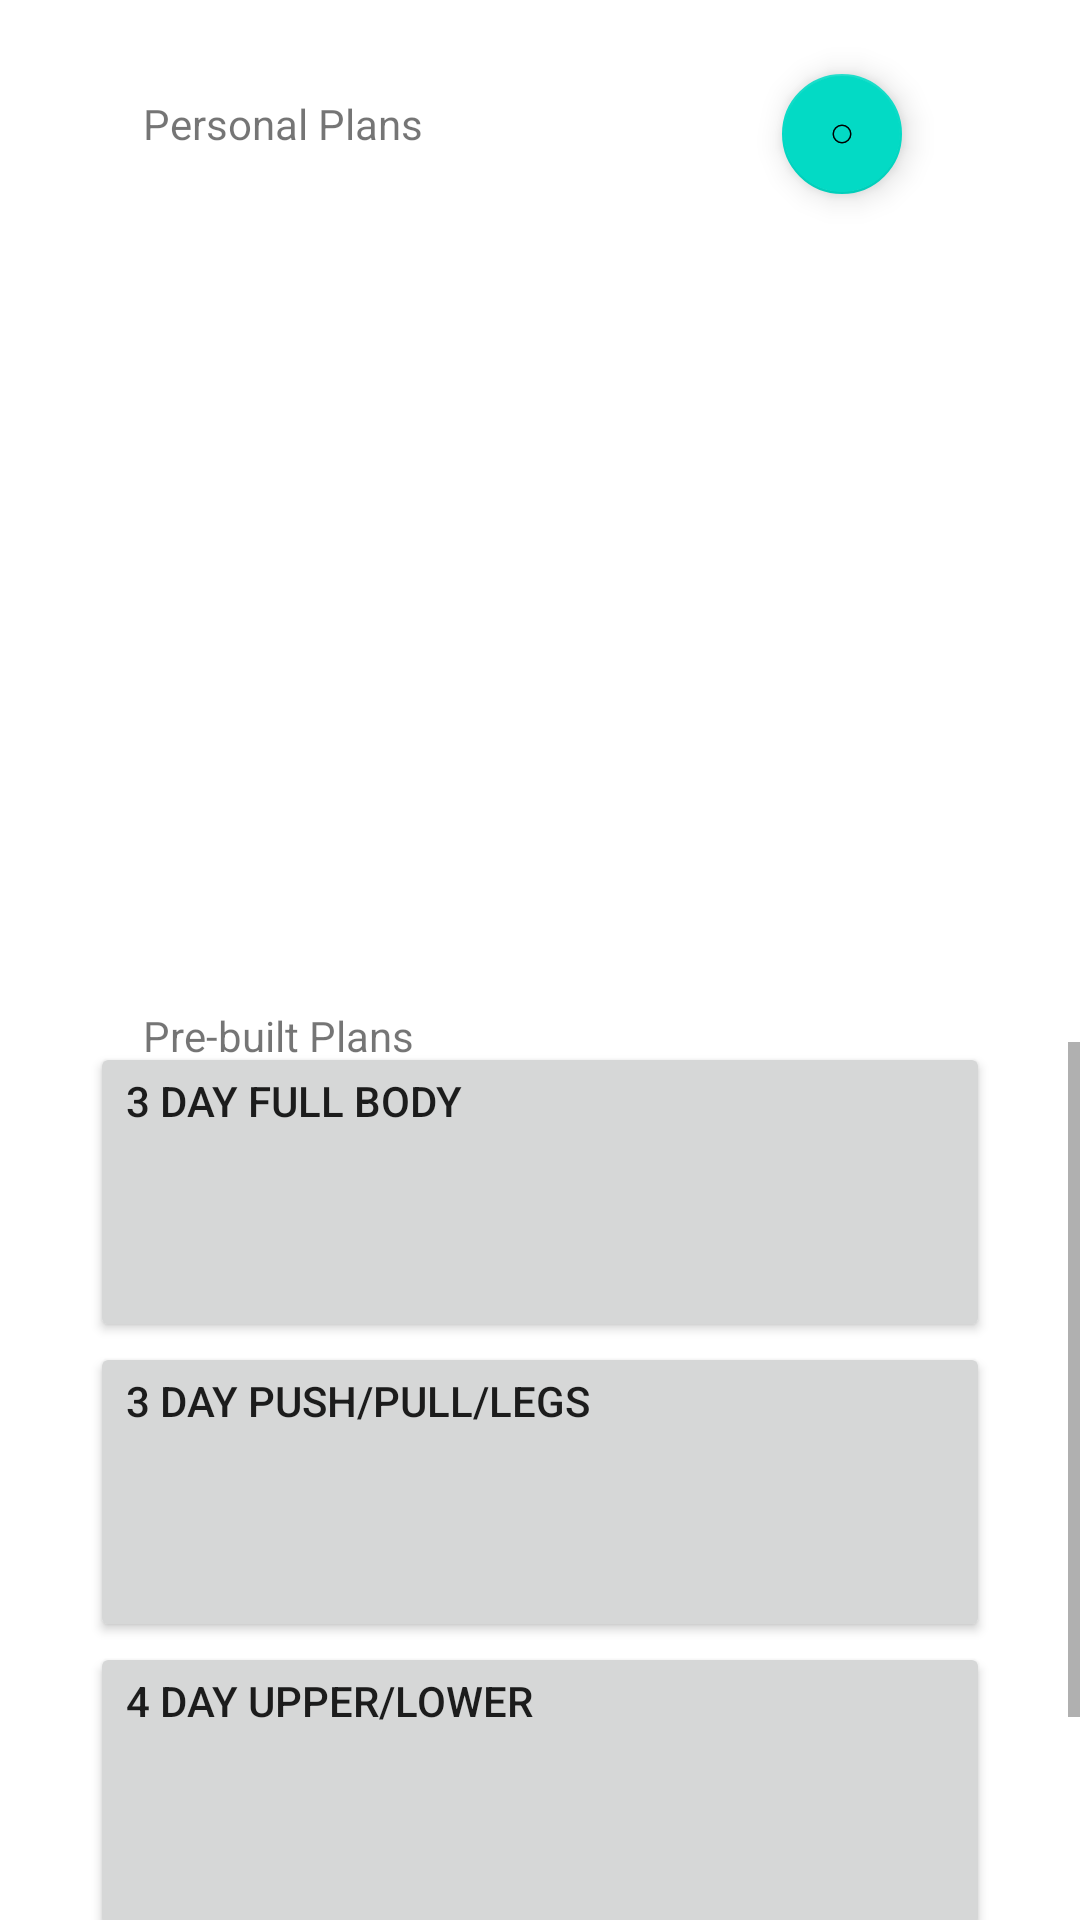

Point at icon controls on the screen. Image size 1080*1920, points as [x,y].
circle: [842,134]
